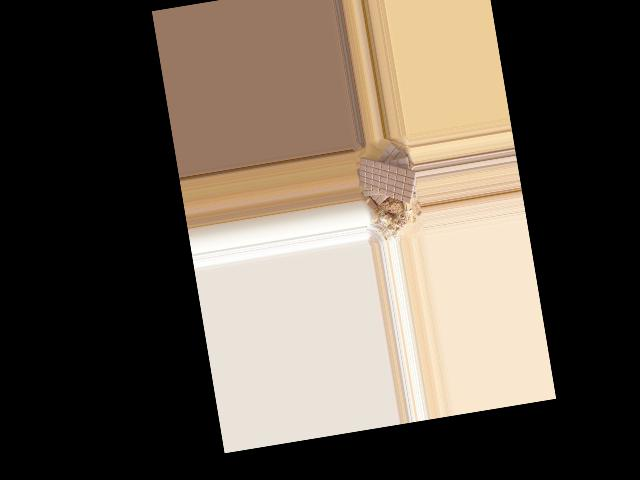chocolate: (356, 148, 421, 213)
